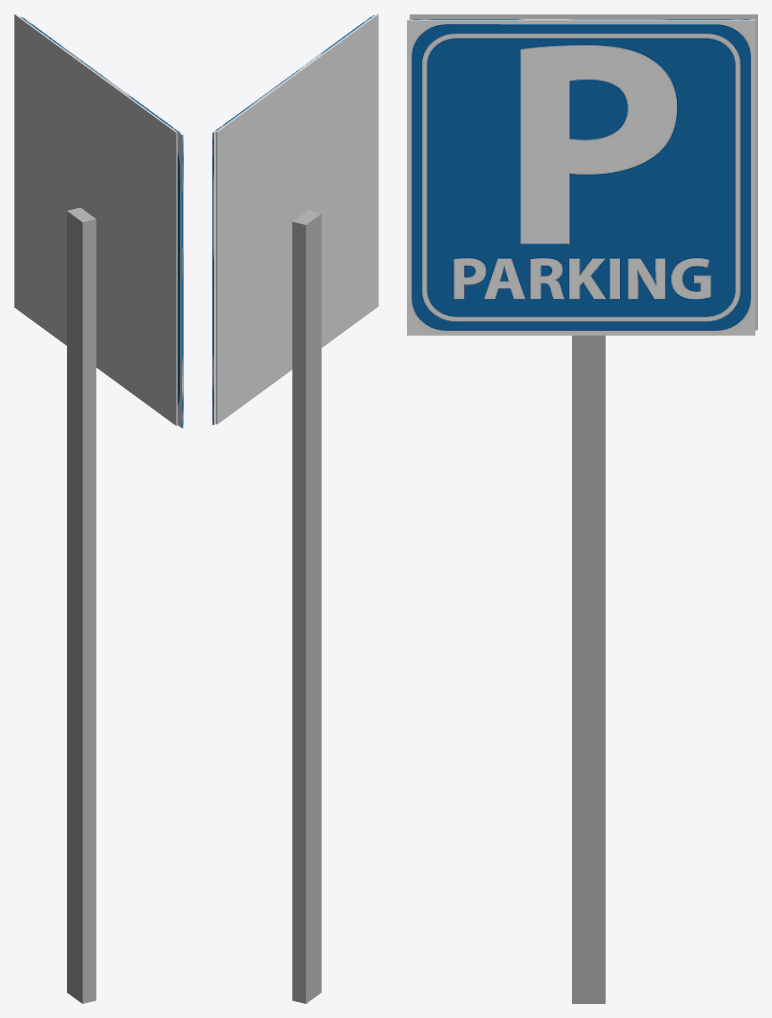
File: parking.dae
3 renders of one model, left to right at view 1: azimuth 30°, elevation 25°; view 2: azimuth 150°, elevation 25°; view 3: azimuth 270°, elevation 25°, orthographic. The views are drawn at different scales.
Parts seen in each view (by area): view 1: Cube_002, Cube_001, Cube; view 2: Cube_002, Cube_001, Cube; view 3: Cube, Cube_001, Cube_002.
Boxes of the visible parts, x1,y1,x2,y2 form: Cube_002: (14,14,177,425); Cube_001: (67,207,96,1003); Cube: (20,16,183,428); Cube_002: (216,14,378,424); Cube_001: (292,210,321,1003); Cube: (212,14,374,424); Cube: (407,19,755,335); Cube_001: (572,335,605,1003); Cube_002: (409,14,757,330).
Size of the model in its own units: 0.0799 by 0.9209 by 2.88.
